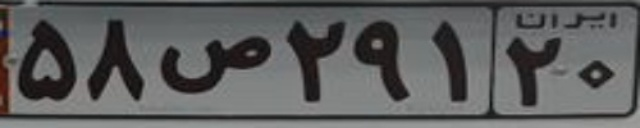0: (573, 59, 616, 89)
1: (429, 21, 471, 103)
2: (285, 19, 350, 102), (503, 34, 562, 107)
5: (15, 18, 77, 102)
8: (85, 19, 147, 102)
9: (352, 20, 419, 103)
saat: (160, 35, 273, 94)
